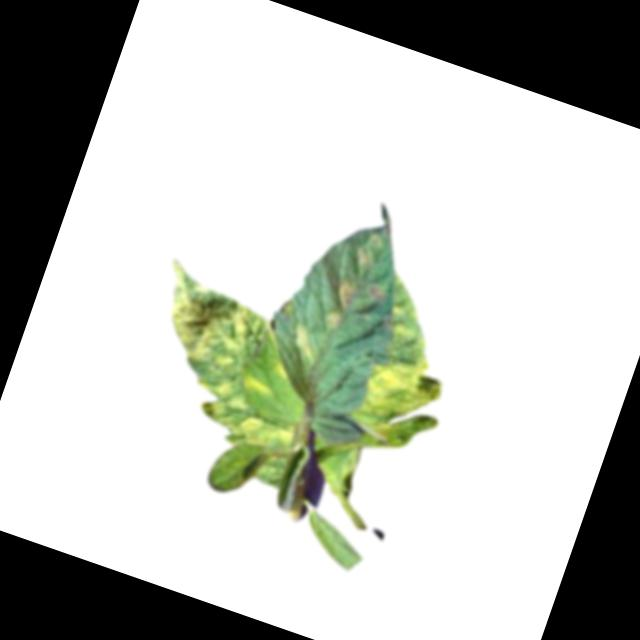Leaf_Mold: (133, 255, 277, 406), (344, 336, 459, 457), (198, 396, 301, 459), (280, 317, 327, 368), (329, 278, 359, 313), (240, 374, 278, 400), (321, 307, 344, 332)
